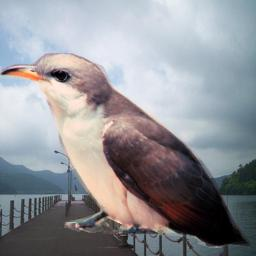Cuckoo: (0, 53, 251, 248)
